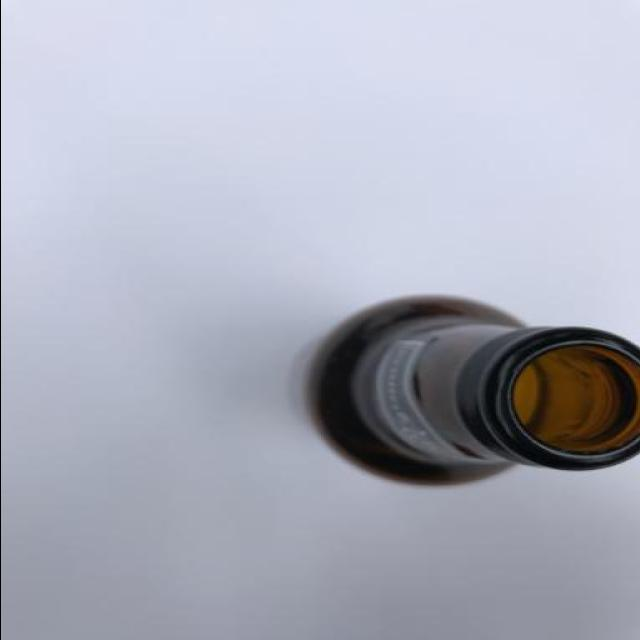glass: (254, 281, 640, 531)
